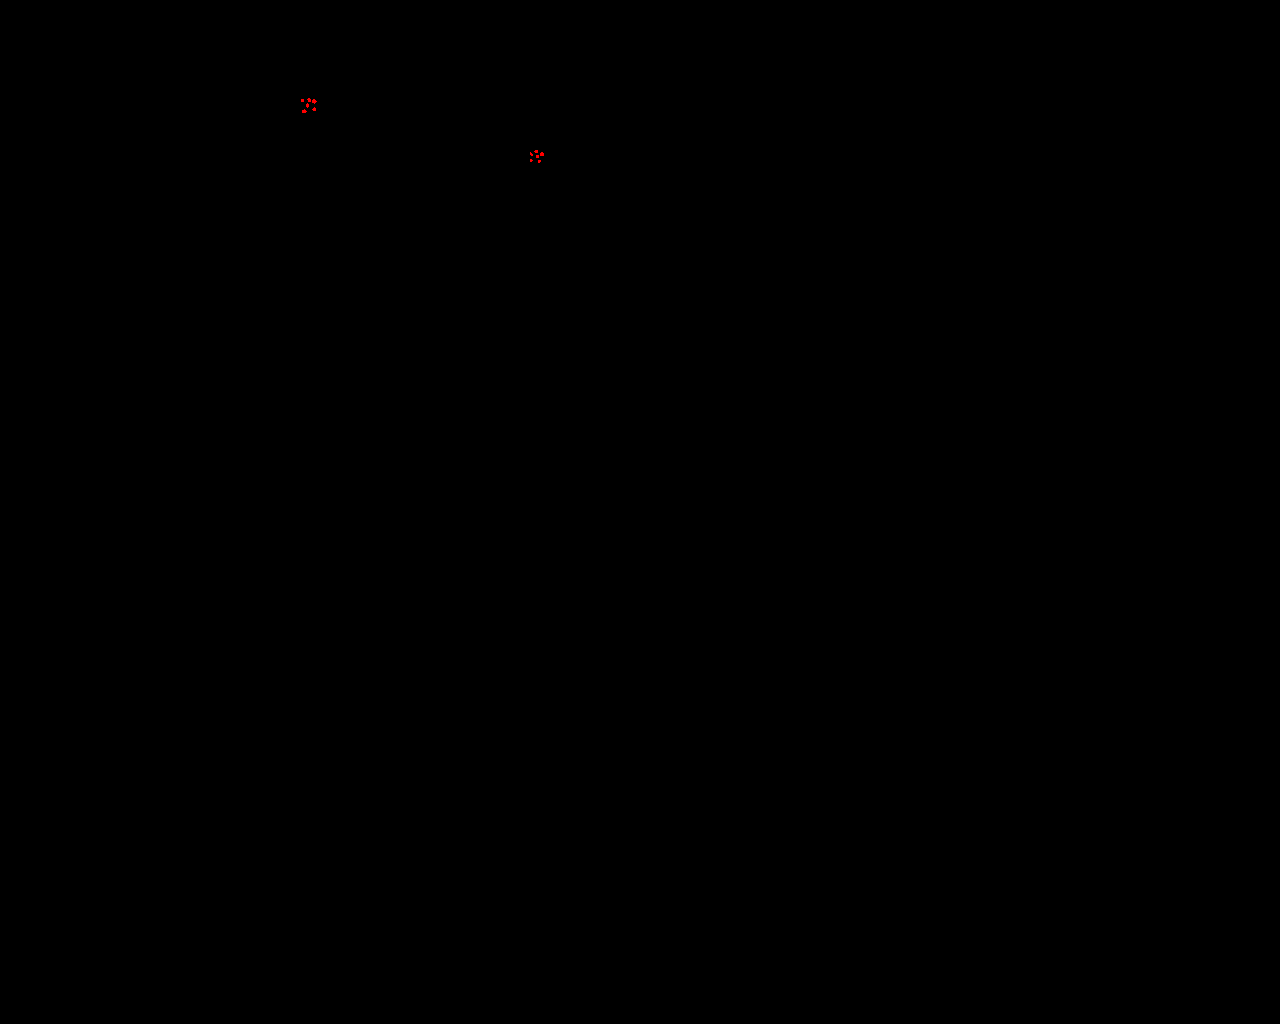Target: (312, 99, 317, 104), (302, 109, 307, 113), (307, 98, 311, 102), (540, 152, 544, 156), (306, 103, 309, 108), (312, 107, 316, 111), (530, 152, 533, 156), (301, 99, 304, 102), (536, 155, 539, 158), (530, 159, 533, 162), (538, 160, 541, 163), (534, 150, 538, 153)
